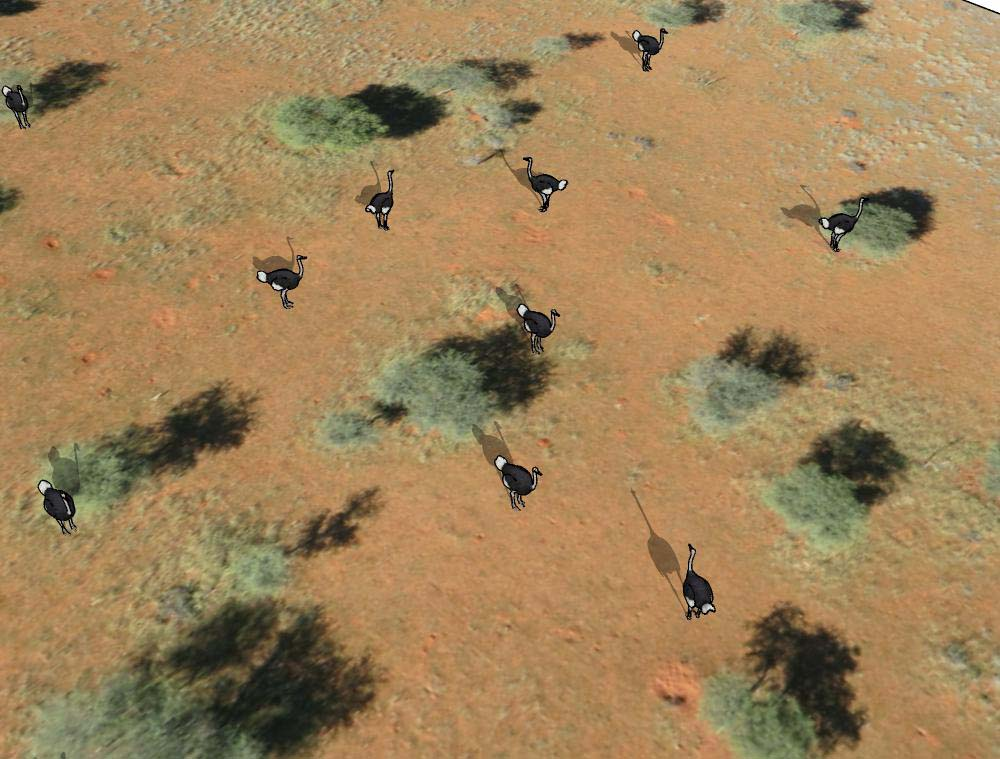ostrich: (255, 250, 314, 313), (673, 542, 718, 622), (491, 447, 542, 516), (814, 196, 868, 255), (511, 294, 564, 354), (517, 154, 566, 216), (34, 478, 83, 537), (366, 167, 401, 234), (1, 76, 37, 137), (629, 24, 670, 73)
